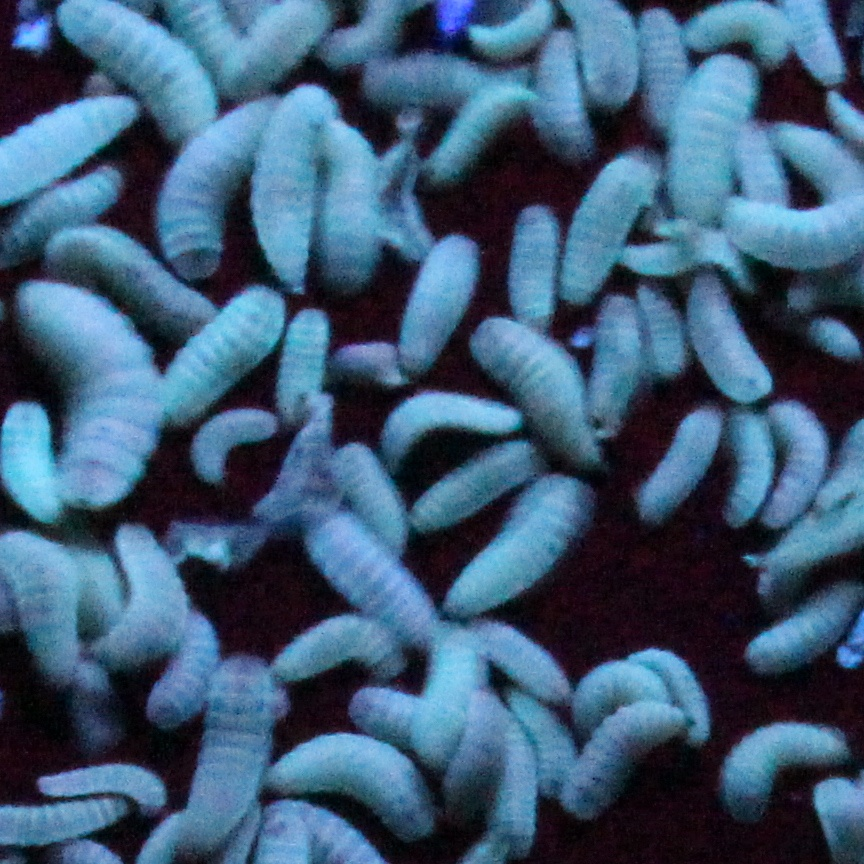larve: (20, 283, 163, 514), (163, 655, 286, 853), (157, 92, 283, 278), (471, 312, 604, 471), (301, 497, 442, 645), (444, 474, 589, 616), (157, 292, 287, 433), (271, 733, 439, 842), (552, 702, 699, 818), (661, 62, 761, 223), (561, 152, 663, 307), (256, 90, 330, 299), (721, 718, 852, 821), (94, 521, 187, 662), (392, 240, 483, 373), (373, 390, 528, 466), (633, 404, 725, 519), (690, 274, 773, 397), (432, 81, 533, 181), (326, 119, 378, 290), (768, 397, 833, 533), (459, 621, 571, 695), (528, 33, 592, 157), (149, 609, 218, 724), (275, 621, 402, 676), (689, 2, 792, 66), (187, 412, 280, 481), (725, 407, 773, 530), (511, 204, 556, 331), (287, 304, 332, 426), (37, 771, 170, 809)
